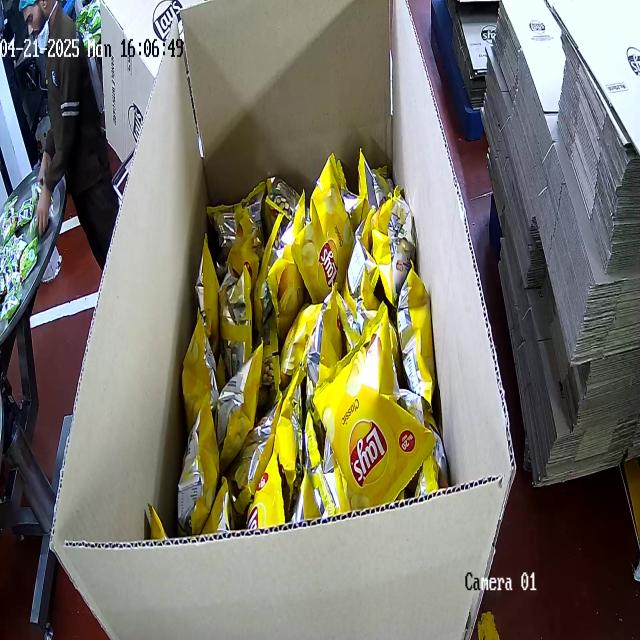SALTED: (163, 160, 450, 507)
